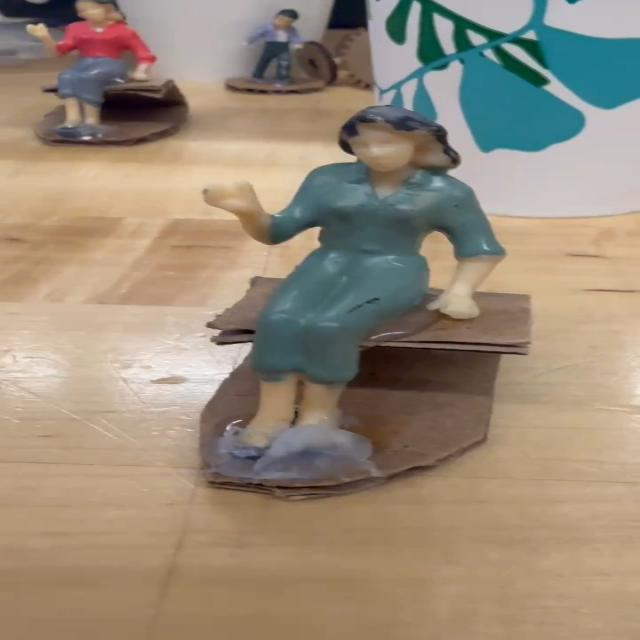Authorized: (190, 104, 508, 482)
